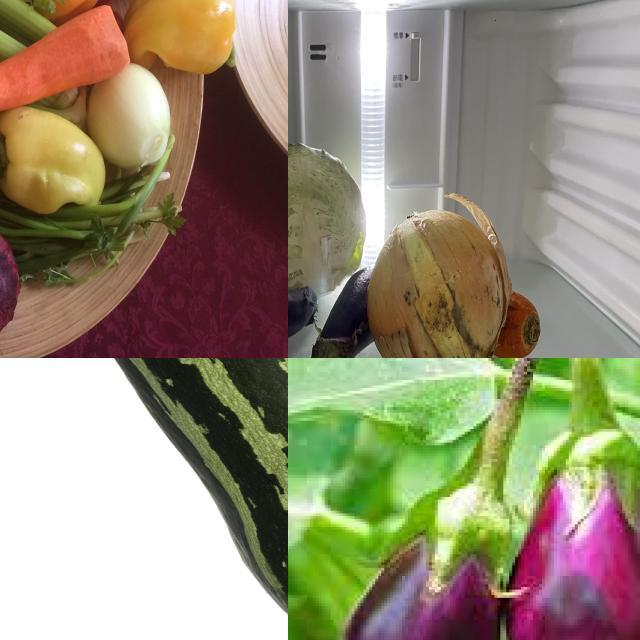beet: (1, 204, 29, 354)
bell_pepper: (1, 98, 119, 232), (119, 1, 256, 86)
cabbage: (289, 142, 360, 296)
carrot: (1, 6, 131, 122), (494, 282, 542, 359)
eggplant: (331, 481, 519, 640), (507, 424, 640, 640), (312, 260, 379, 359)
onion: (367, 209, 518, 359), (92, 54, 175, 175)
zucchini: (1, 359, 289, 640)
